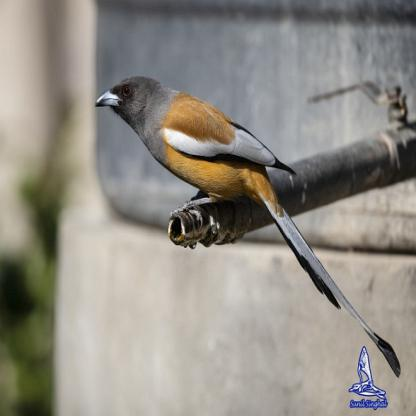Burung: (95, 76, 400, 380)
